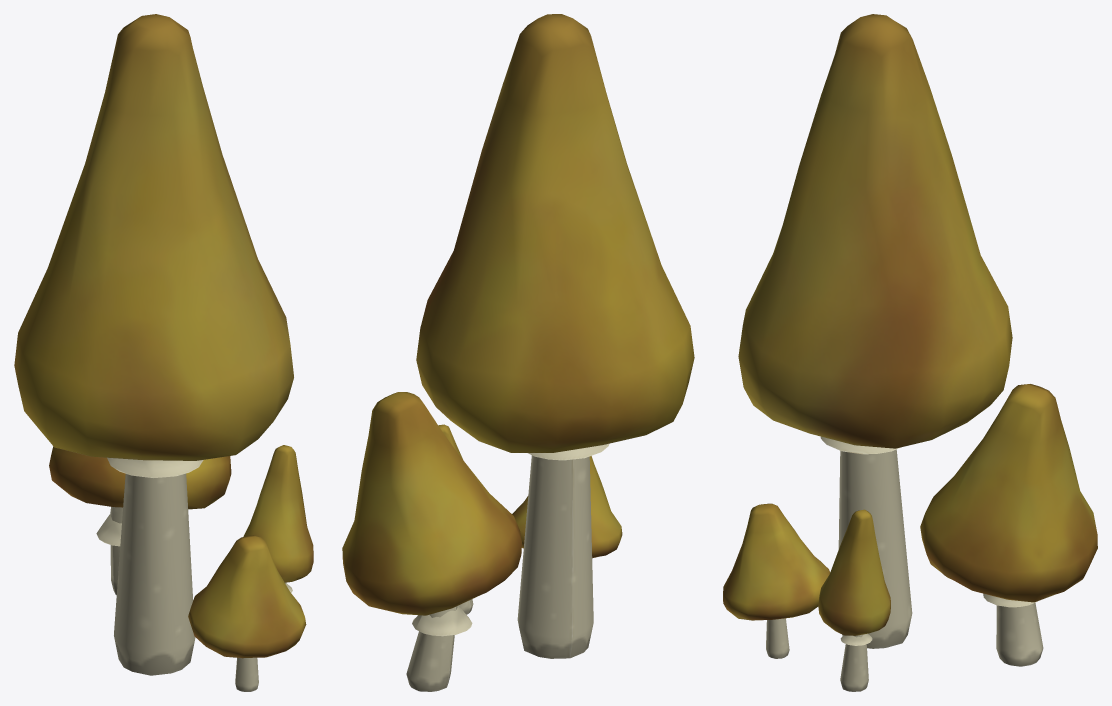
File: houba_bedla_zlata.glb
The picture shows the model from 3 angles, left to right: view 1: azimuth 30°, elevation 25°; view 2: azimuth 150°, elevation 25°; view 3: azimuth 270°, elevation 25°; orthographic projection. The views are drawn at different scales.
Parts seen in each view (by area): view 1: houba_bedla_zlata; view 2: houba_bedla_zlata; view 3: houba_bedla_zlata.
Part boxes in pixels (bbox=[...]): houba_bedla_zlata: bbox=[14, 14, 313, 691]; houba_bedla_zlata: bbox=[342, 14, 694, 691]; houba_bedla_zlata: bbox=[723, 14, 1097, 691].
Bounding box in the file's own units: 0.0699 × 0.16 × 0.0882.
Materials: 1 (1 with a texture image).
